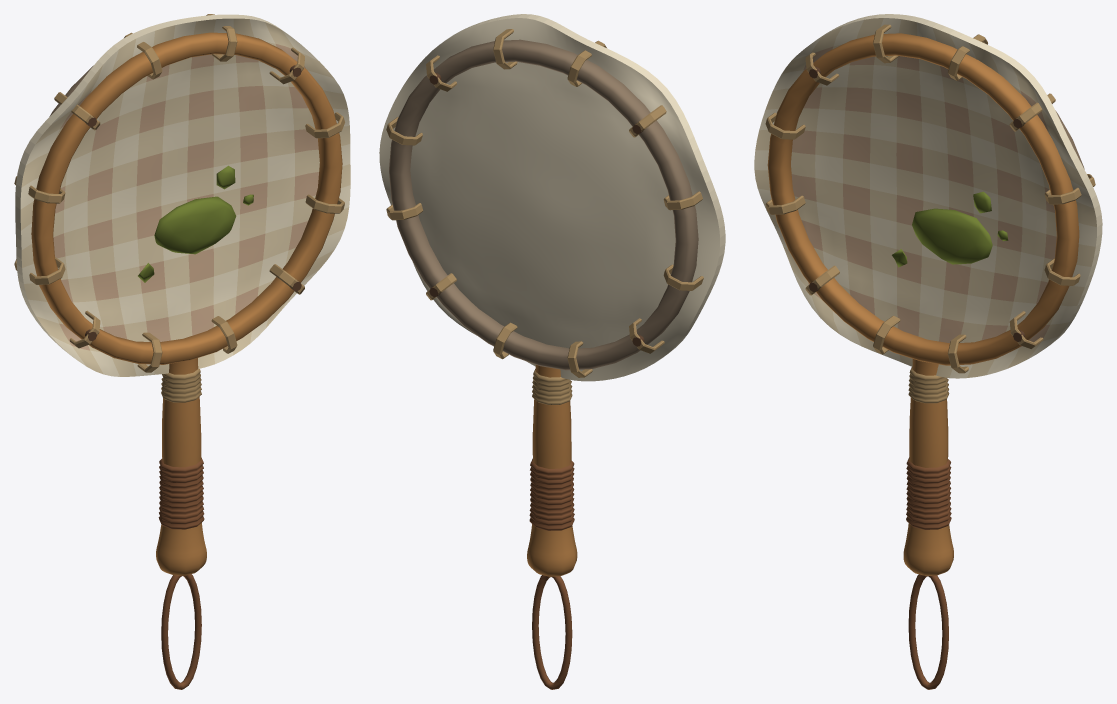
File: tool_filtercloth.fbx
The picture shows the model from 3 angles, left to right: view 1: azimuth 30°, elevation 25°; view 2: azimuth 150°, elevation 25°; view 3: azimuth 330°, elevation 25°; orthographic projection.
Visible parts, largest first — view 1: Tool_FilterCloth_Cloth, Tool_FilterCloth_Hoop, Tool_FilterCloth_Wrap, Tool_FilterCloth_Handle, Tool_FilterCloth_Lashing, Tool_FilterCloth_Residue; view 2: Tool_FilterCloth_Cloth, Tool_FilterCloth_Hoop, Tool_FilterCloth_Wrap, Tool_FilterCloth_Handle, Tool_FilterCloth_Lashing; view 3: Tool_FilterCloth_Cloth, Tool_FilterCloth_Hoop, Tool_FilterCloth_Wrap, Tool_FilterCloth_Handle, Tool_FilterCloth_Lashing, Tool_FilterCloth_Residue.
Boxes of the visible parts, bbox=[...] form: Tool_FilterCloth_Cloth: bbox=[15, 14, 350, 376]; Tool_FilterCloth_Hoop: bbox=[31, 32, 342, 364]; Tool_FilterCloth_Wrap: bbox=[158, 369, 204, 689]; Tool_FilterCloth_Handle: bbox=[156, 358, 206, 575]; Tool_FilterCloth_Lashing: bbox=[14, 14, 344, 372]; Tool_FilterCloth_Residue: bbox=[138, 165, 253, 282]; Tool_FilterCloth_Cloth: bbox=[379, 14, 725, 381]; Tool_FilterCloth_Hoop: bbox=[389, 39, 698, 370]; Tool_FilterCloth_Wrap: bbox=[529, 369, 574, 689]; Tool_FilterCloth_Handle: bbox=[527, 365, 577, 576]; Tool_FilterCloth_Lashing: bbox=[386, 29, 703, 377]; Tool_FilterCloth_Cloth: bbox=[754, 14, 1102, 378]; Tool_FilterCloth_Hoop: bbox=[767, 33, 1084, 365]; Tool_FilterCloth_Wrap: bbox=[906, 367, 951, 689]; Tool_FilterCloth_Handle: bbox=[903, 359, 953, 575]; Tool_FilterCloth_Lashing: bbox=[765, 24, 1095, 373]; Tool_FilterCloth_Residue: bbox=[892, 191, 1008, 267].
Bounding box in the file's own units: 35.77 × 68.16 × 5.6.
